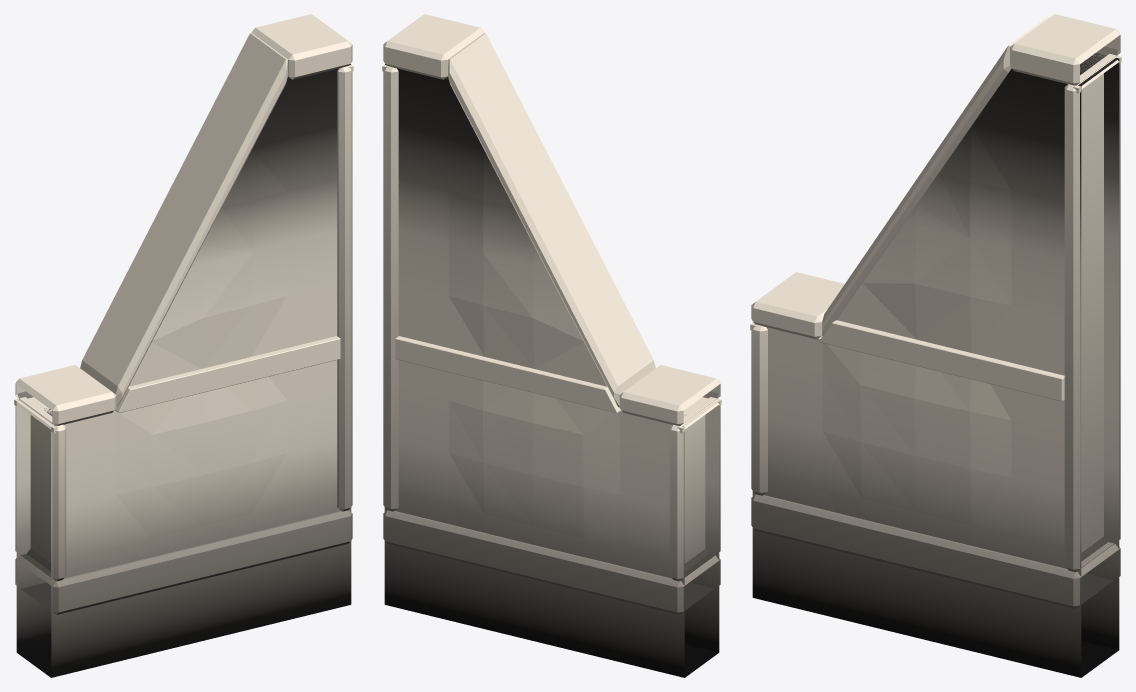
File: SM_VKI_Wall_Wattle_Rake_150_L.fbx
3 views of the same model, side by side, from view 1: azimuth 30°, elevation 25°; view 2: azimuth 150°, elevation 25°; view 3: azimuth 330°, elevation 25° (orthographic). The views are drawn at different scales.
Visible parts, largest first — view 1: SM_VKI_Wall_Wattle_Rake_150_L.001; view 2: SM_VKI_Wall_Wattle_Rake_150_L.001; view 3: SM_VKI_Wall_Wattle_Rake_150_L.001.
Part boxes in pixels (x1,y1,x2,y2): SM_VKI_Wall_Wattle_Rake_150_L.001: [14, 14, 353, 677]; SM_VKI_Wall_Wattle_Rake_150_L.001: [382, 14, 721, 677]; SM_VKI_Wall_Wattle_Rake_150_L.001: [750, 14, 1121, 677].
Bounding box in the file's own units: 1.5 × 2.7 × 0.36.
